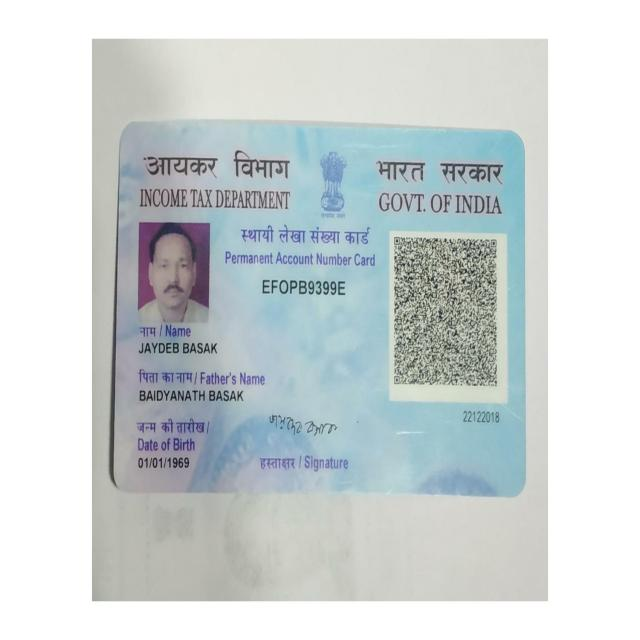pan_card: (116, 126, 521, 495)
